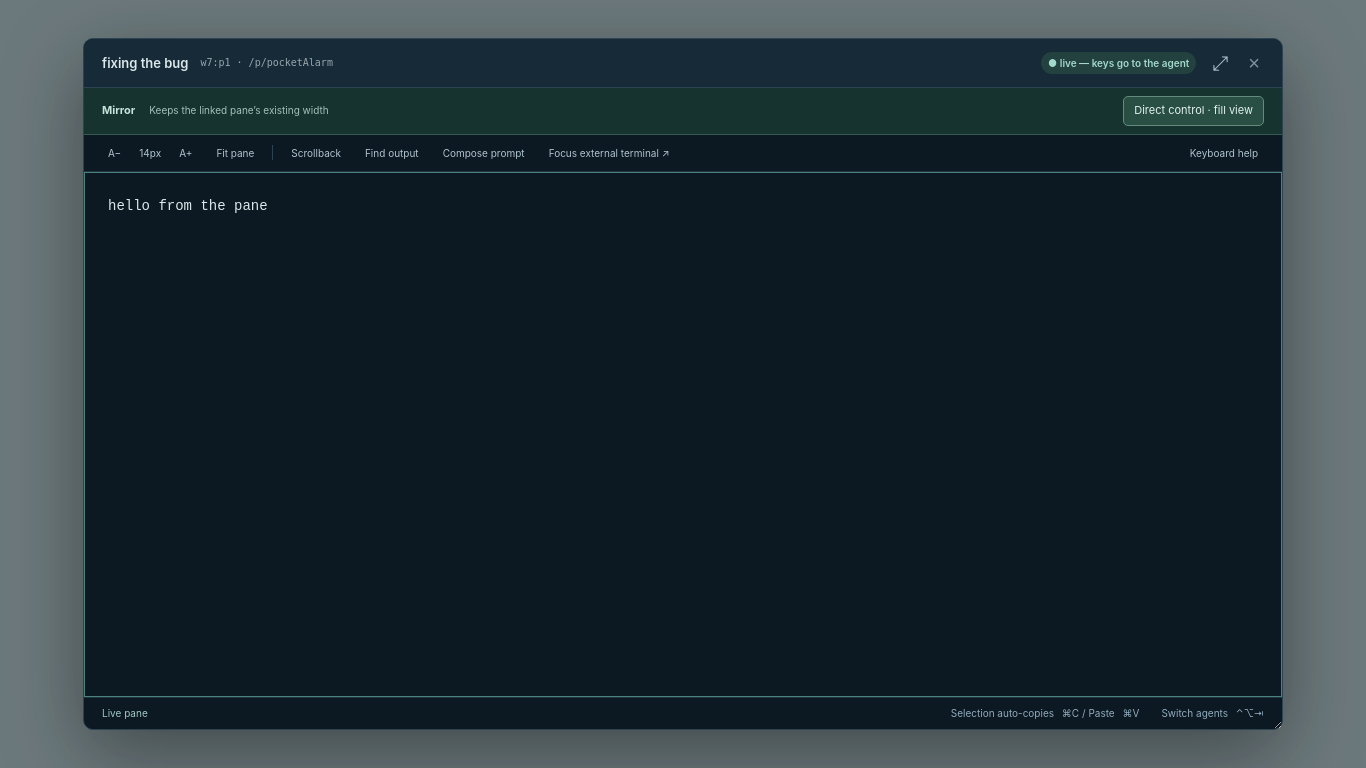
Test: Terminal — selection, copy and paste › surfaces an automatic clipboard copy failure
Press the mouse on the text "hello from the pane" at (188, 207), box left=108, top=196, right=268, bottom=218
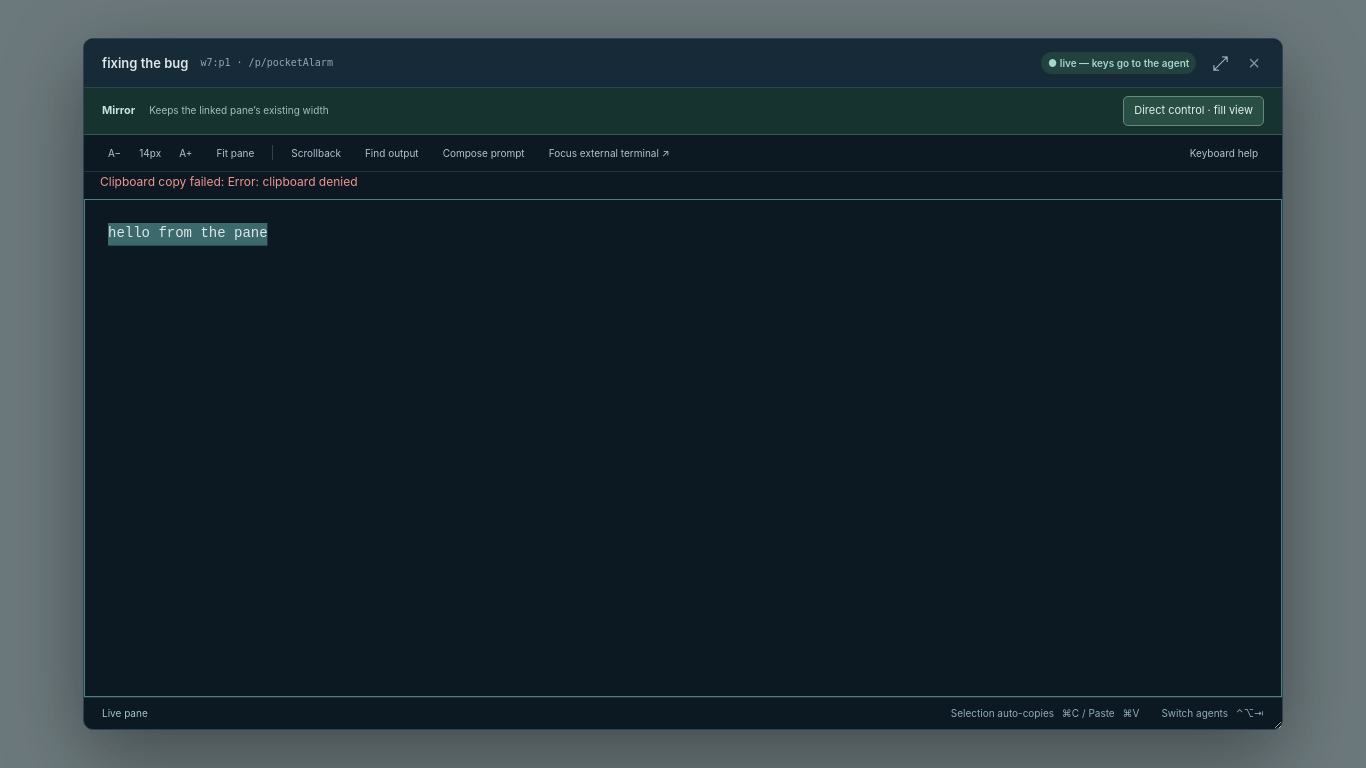
Check: the message "Clipboard copy failed: Error: clipboard denied" is shown, box left=100, top=174, right=358, bottom=189
